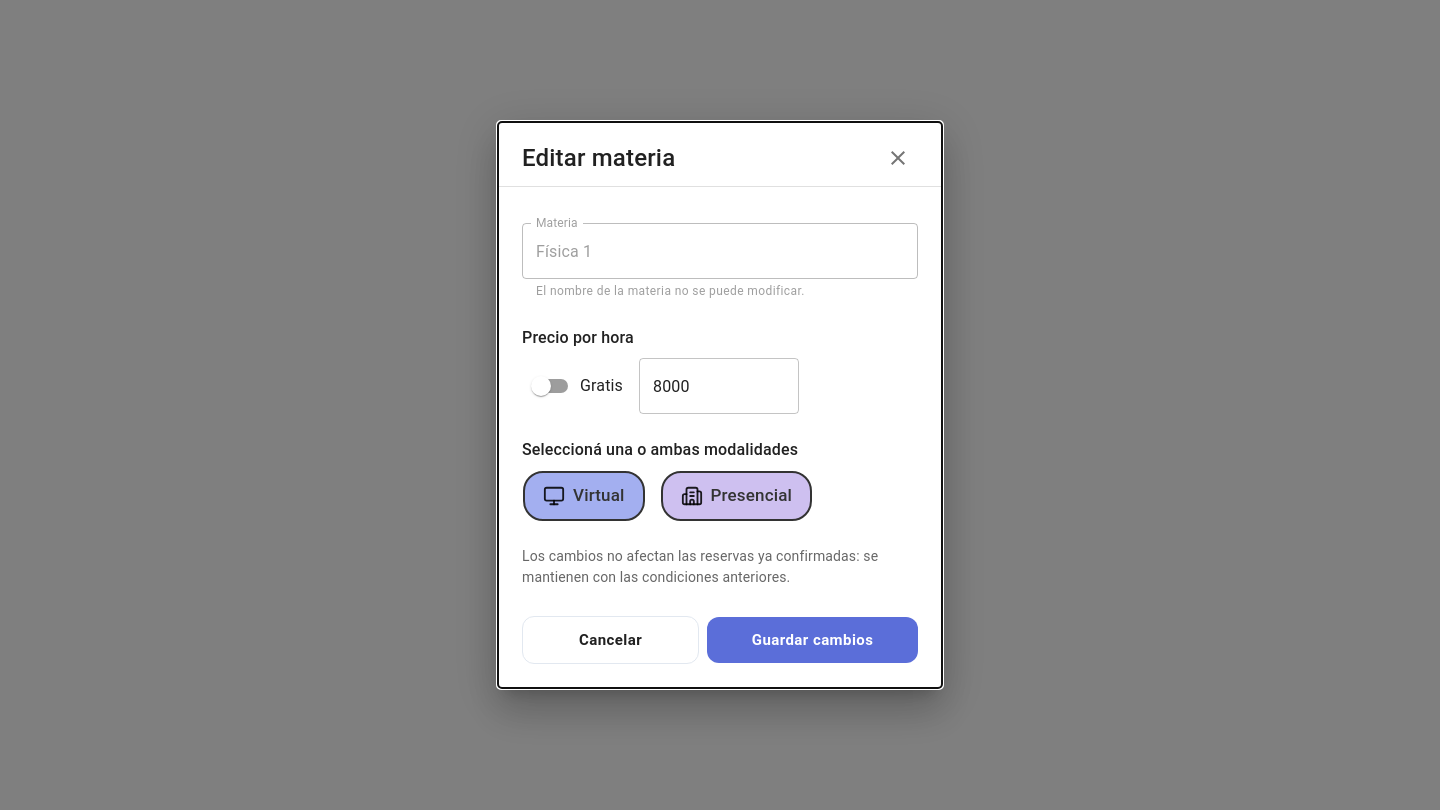
EditSubjectModal › deshabilita Guardar cambios si no queda ninguna modalidad
Click the button "Virtual".
click(584, 496)  # box top-left (523, 471), bottom-right (644, 521)
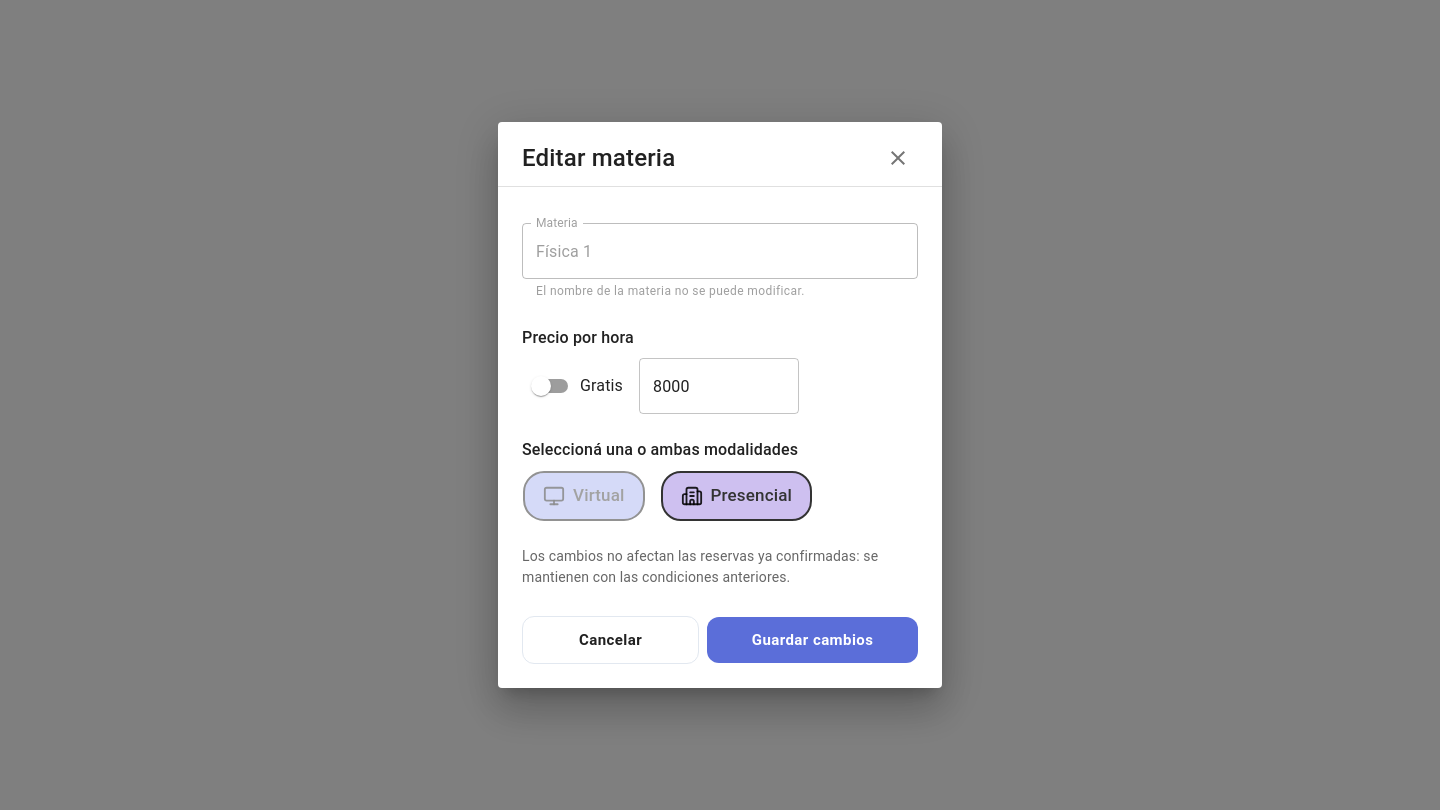
Click the button "Presencial".
click(736, 496)  # box top-left (660, 471), bottom-right (812, 521)
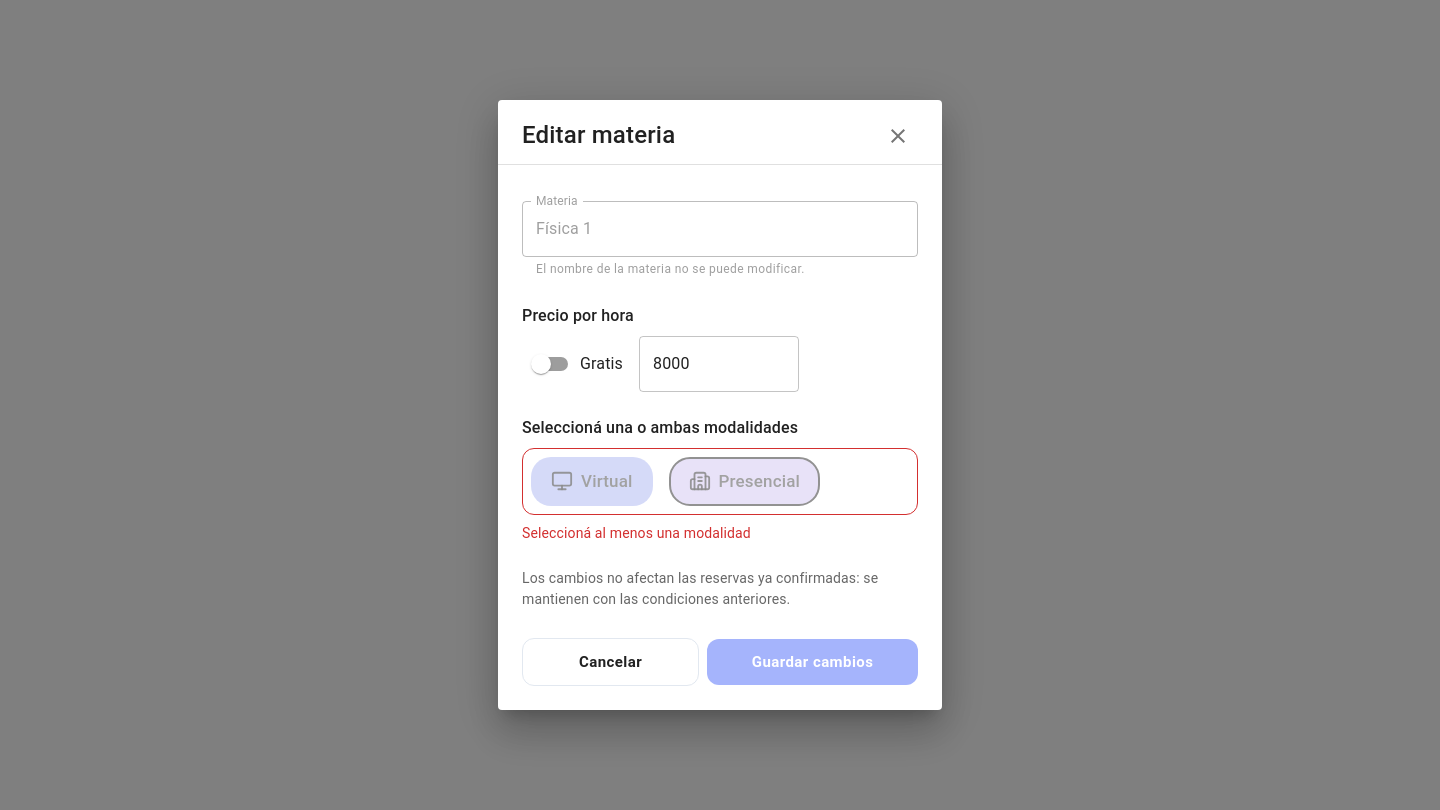
Result: the text "Seleccioná al menos una modalidad" is shown at top-left (522, 525), bottom-right (751, 541)
Result: the button "Guardar cambios" is disabled at top-left (707, 639), bottom-right (918, 685)
